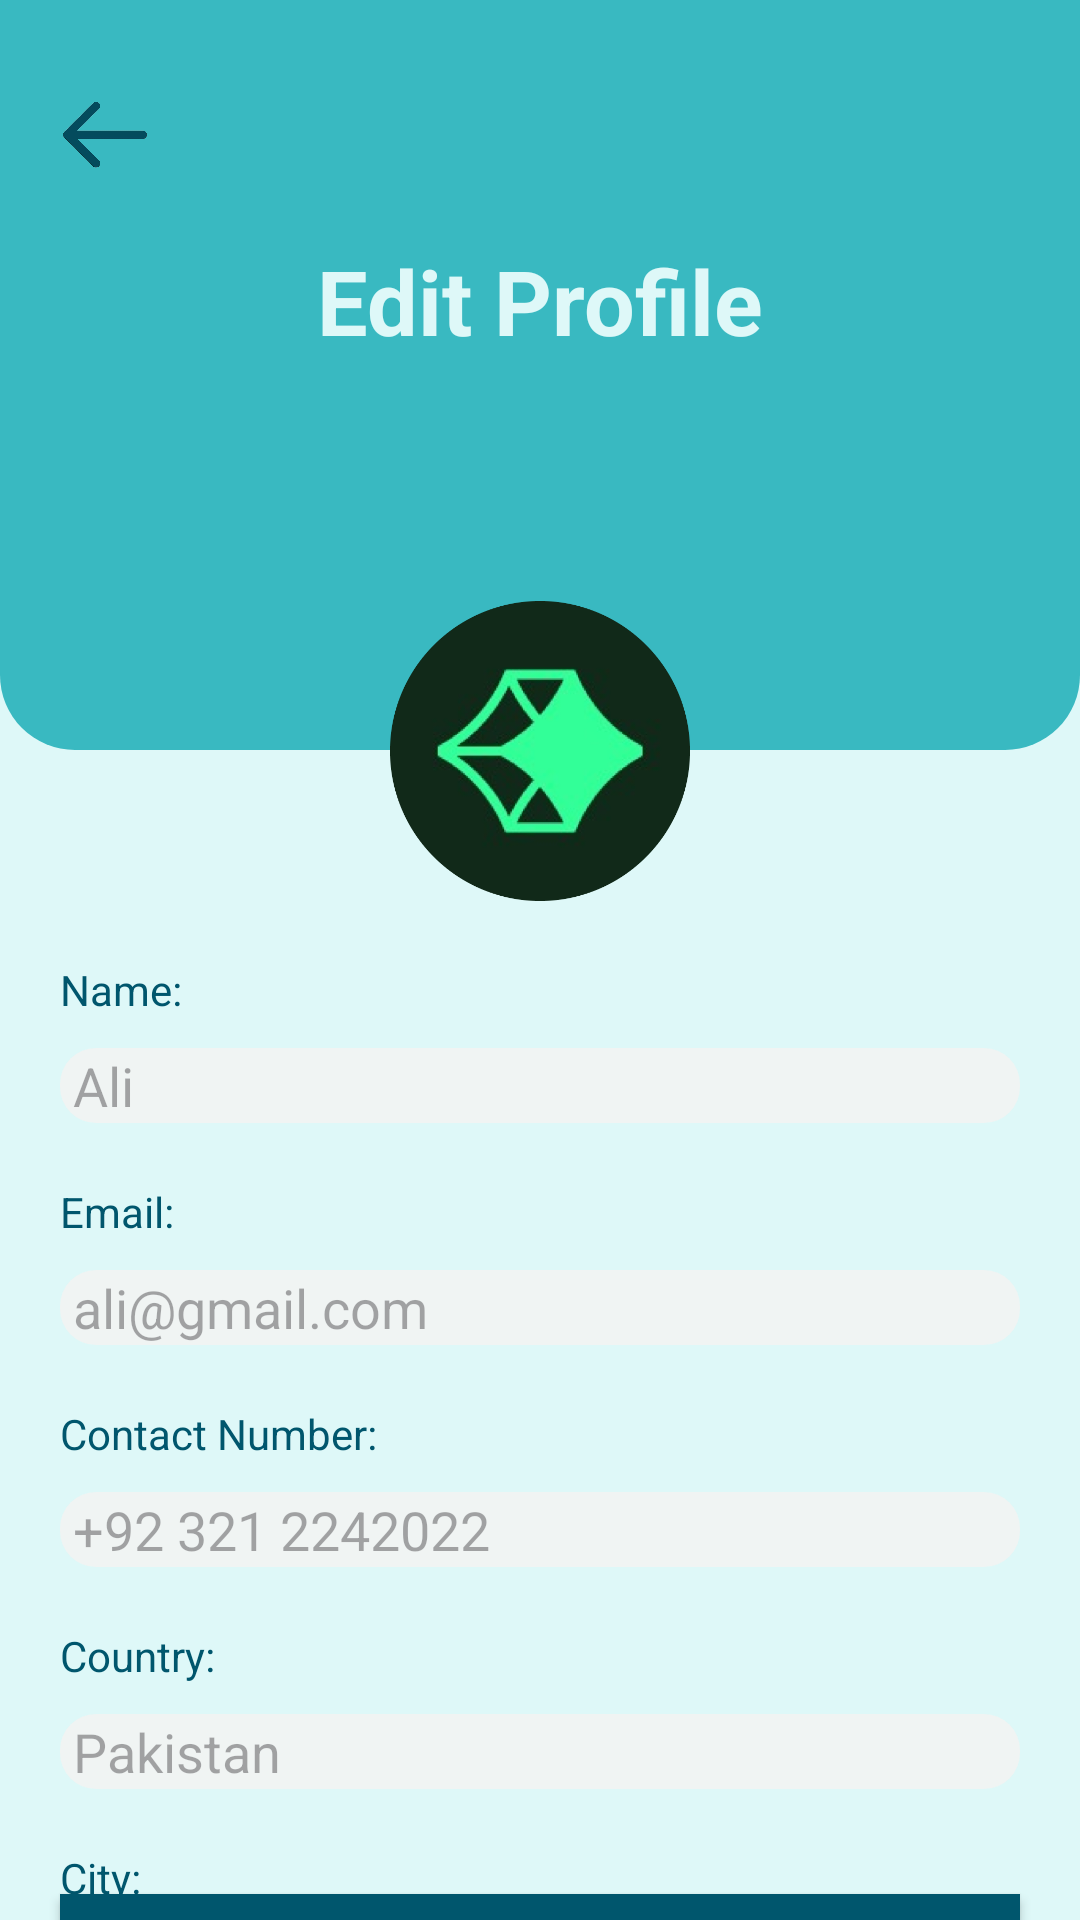

Where to tap for icons on this 1080×1920 app screen, as (x=x, y=y):
backarrow: (x=105, y=135)
